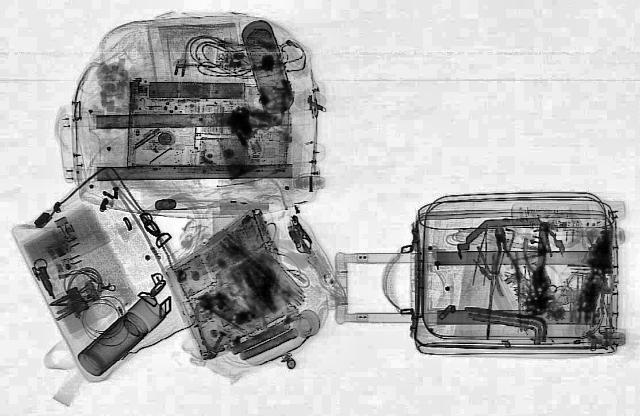Pliers: (484, 224, 524, 298)
